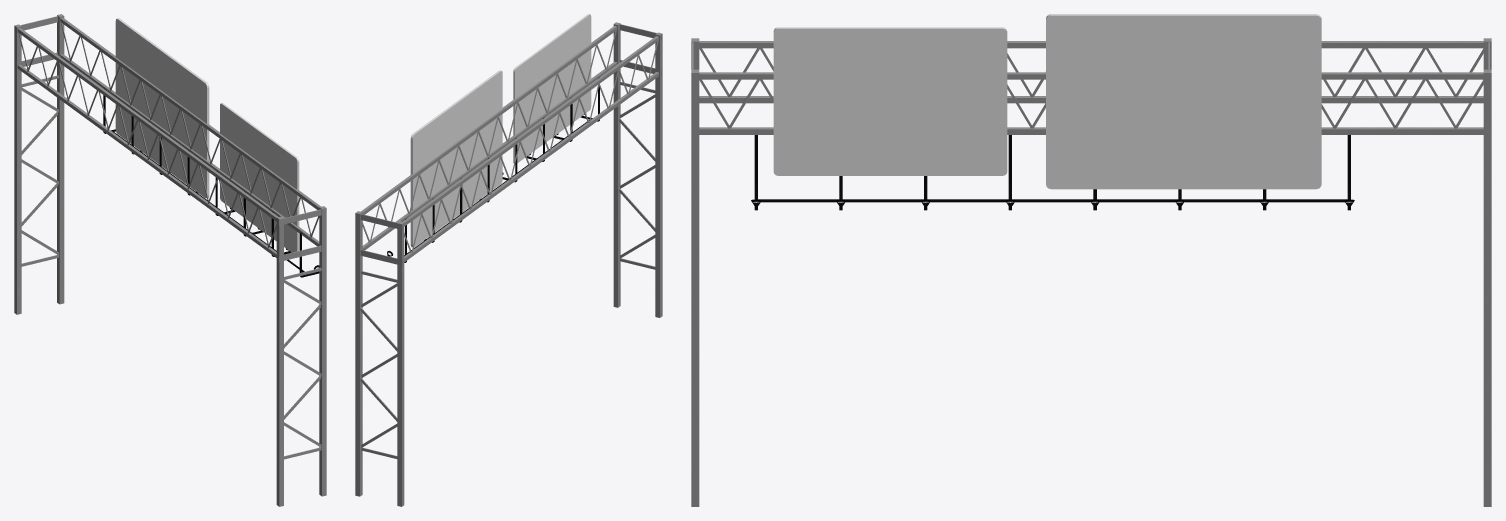
File: HighwaySignBoard_Up_Left.fbx
3 renders of one model, left to right at view 1: azimuth 30°, elevation 25°; view 2: azimuth 150°, elevation 25°; view 3: azimuth 270°, elevation 25°, orthographic. The views are drawn at different scales.
Visible parts, largest first — view 1: Cube.001, Cube, Cube.005; view 2: Cube.001, Cube, Cube.005; view 3: Cube, Cube.005, Cube.001.
Boxes of the visible parts, x1,y1,x2,y2 form: Cube.001: (14,14,326,506); Cube: (115,18,209,198); Cube.005: (220,103,299,252); Cube.001: (355,22,662,506); Cube: (410,70,502,247); Cube.005: (513,14,591,163); Cube: (1046,14,1321,189); Cube.005: (773,27,1007,175); Cube.001: (691,38,1491,506).
Bounding box in the file's own units: 1000 × 135 × 677.
Materials: 5 (1 with a texture image).
